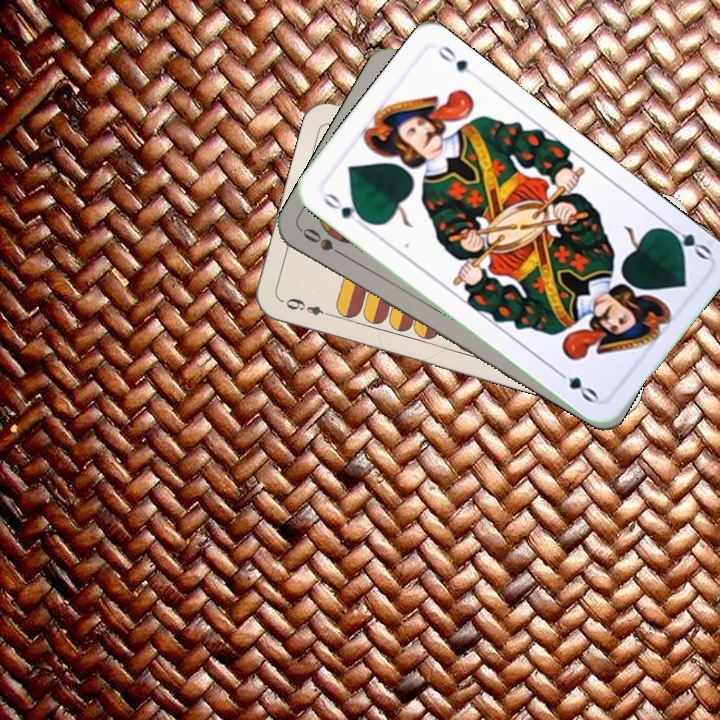E9: (278, 294, 336, 320)
GO: (659, 218, 714, 262), (318, 188, 371, 226)
SO: (298, 223, 352, 262)
